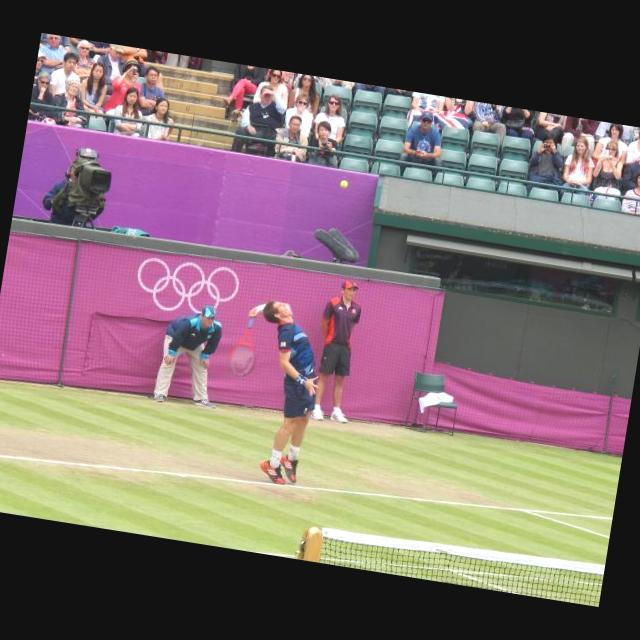Tennis Ball: (340, 178, 349, 188)
